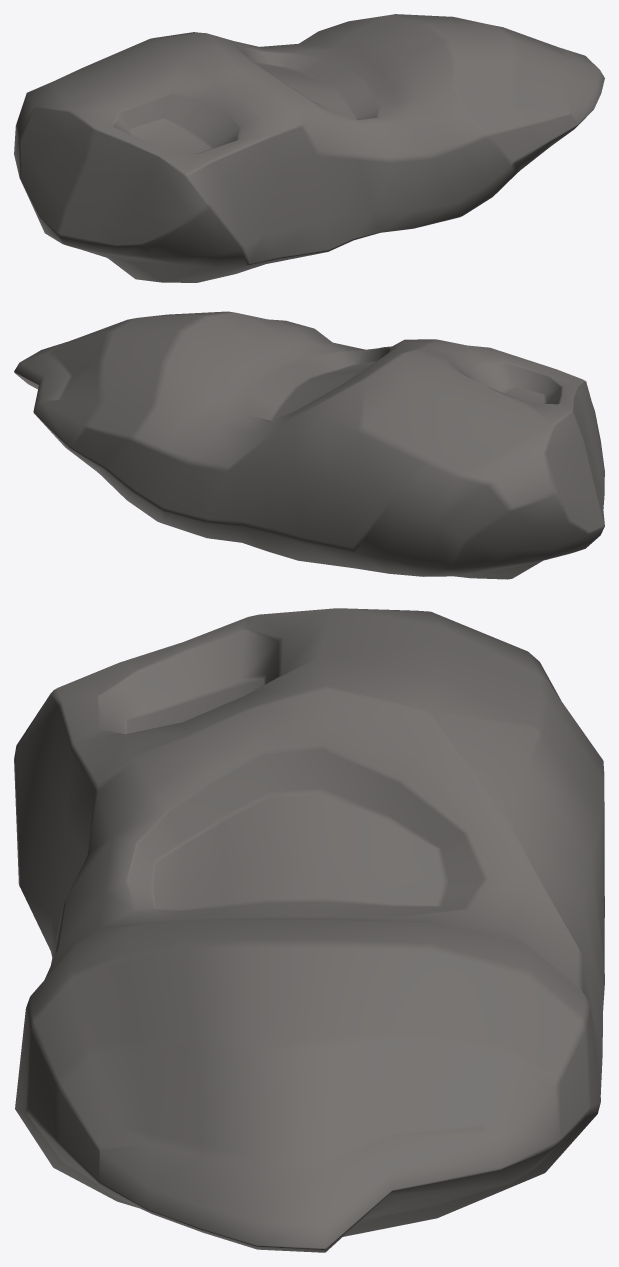
The model's file is _Meteorite_06.fbx.
The picture shows the model from 3 angles, top to bottom: view 1: azimuth 30°, elevation 25°; view 2: azimuth 150°, elevation 25°; view 3: azimuth 270°, elevation 25°; orthographic projection. The views are drawn at different scales.
Parts seen in each view (by area): view 1: Meteorite_06; view 2: Meteorite_06; view 3: Meteorite_06.
Boxes of the visible parts, bbox=[...] form: Meteorite_06: bbox=[14, 14, 604, 282]; Meteorite_06: bbox=[14, 311, 604, 579]; Meteorite_06: bbox=[14, 608, 604, 1252].
Bounding box in the file's own units: 191 × 66.28 × 91.4.
1 material, 1 textured.
